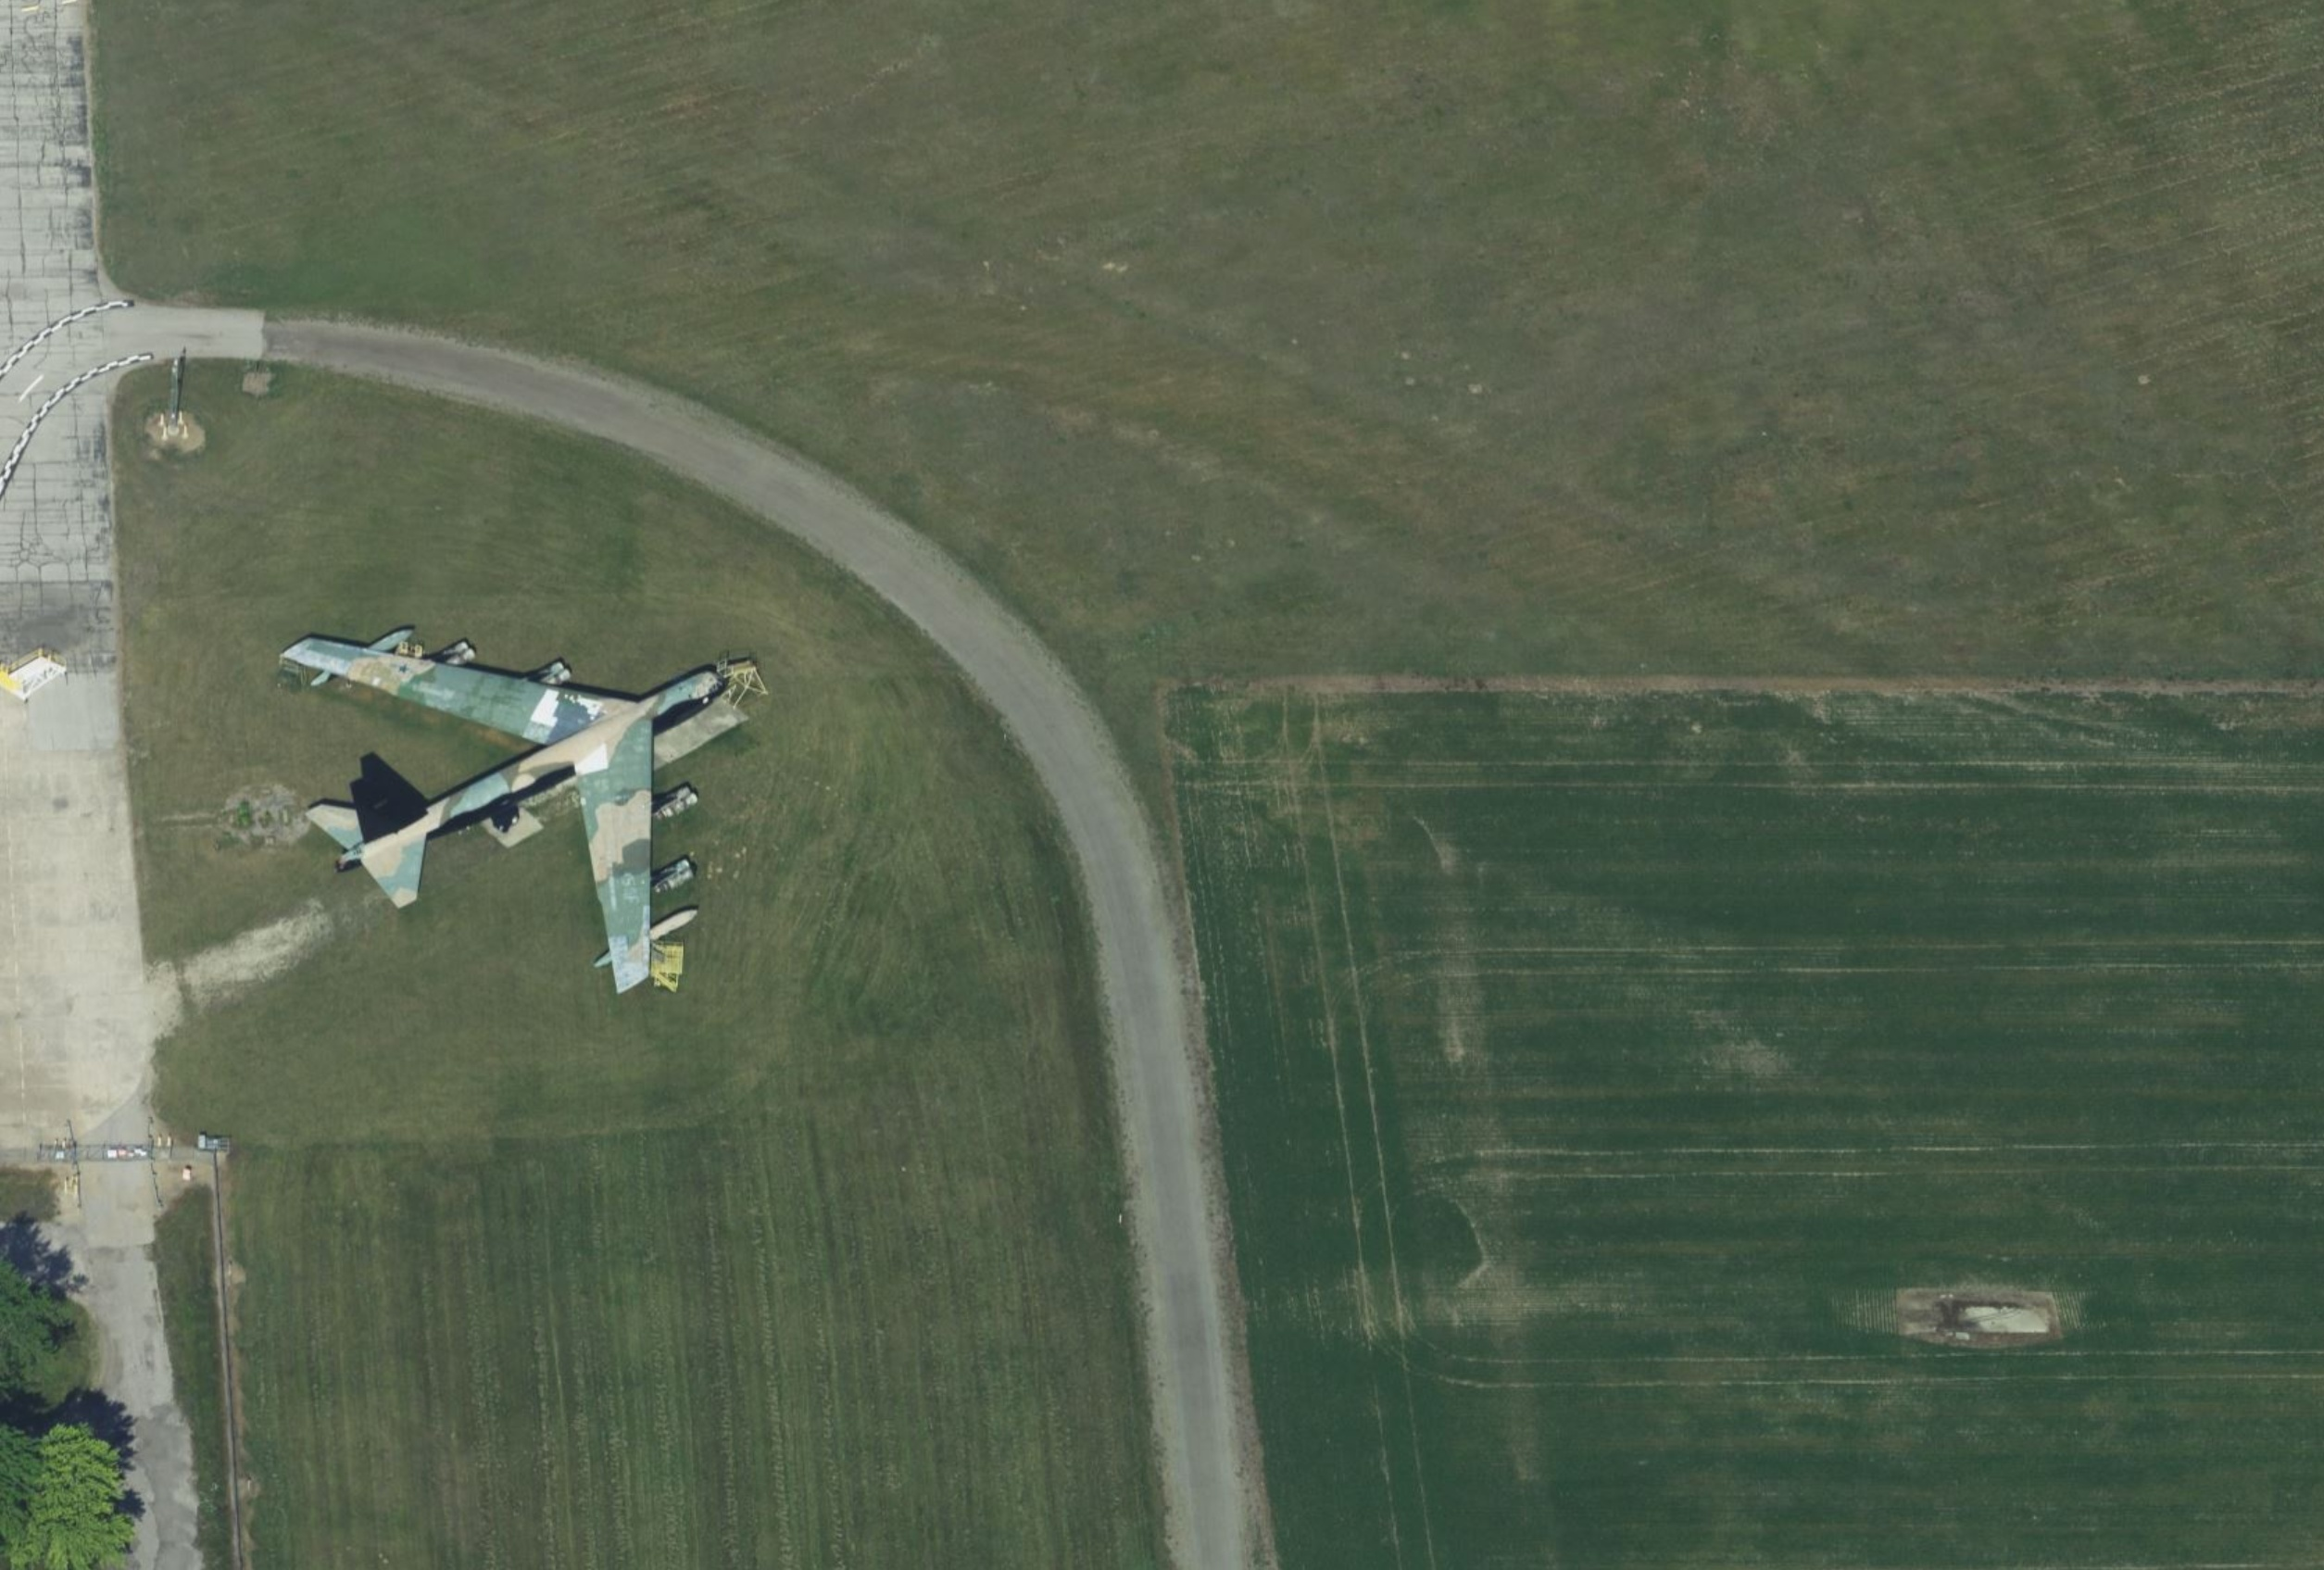B52: (278, 629, 729, 995)
